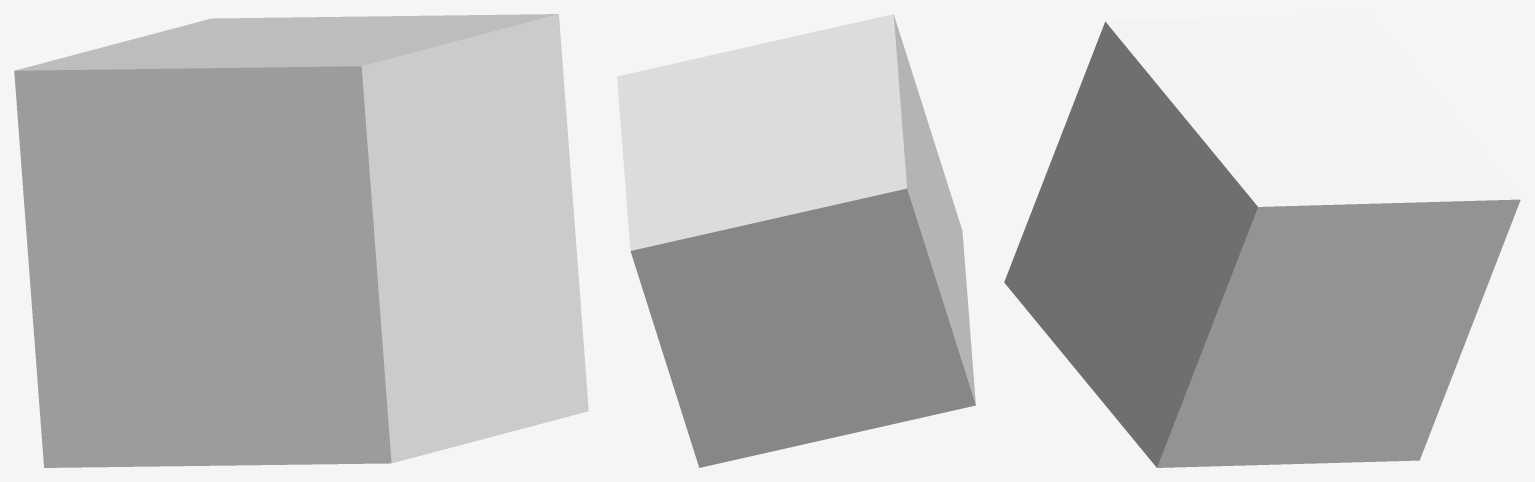
File: BuildingB.fbx
3 views of the same model, side by side, from view 1: azimuth 30°, elevation 25°; view 2: azimuth 150°, elevation 25°; view 3: azimuth 270°, elevation 25° (orthographic). The views are drawn at different scales.
Parts seen in each view (by area): view 1: node_id24; view 2: node_id24; view 3: node_id24.
Part boxes in pixels (<box>): node_id24: <box>14,14,588,467</box>; node_id24: <box>617,14,975,467</box>; node_id24: <box>1004,14,1520,467</box>.
Bounding box in the file's own units: 0.6013 × 0.5776 × 0.6607.
Materials: 1 (1 with a texture image).
